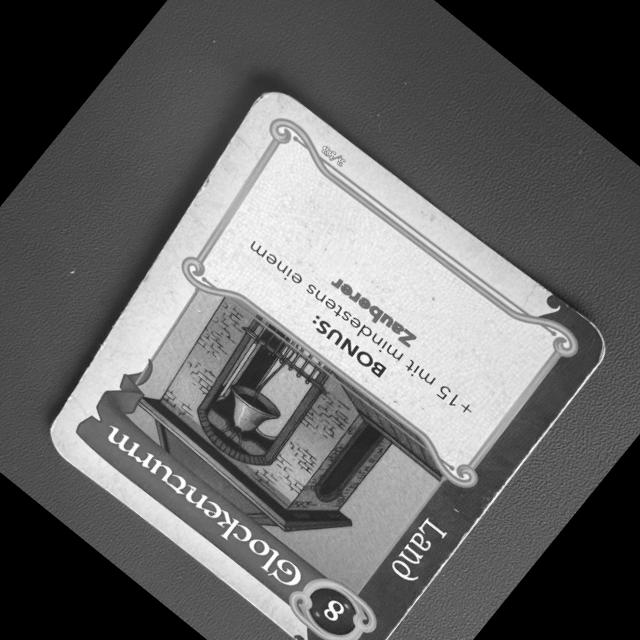Underground Caverns: (37, 72, 618, 640)
